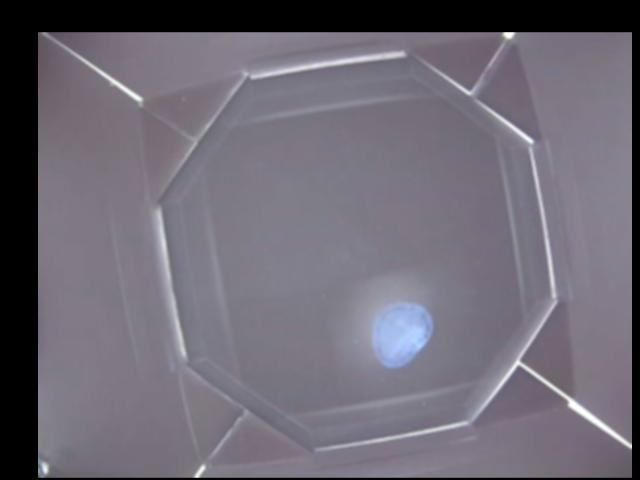Pebble: (373, 301, 432, 369)
